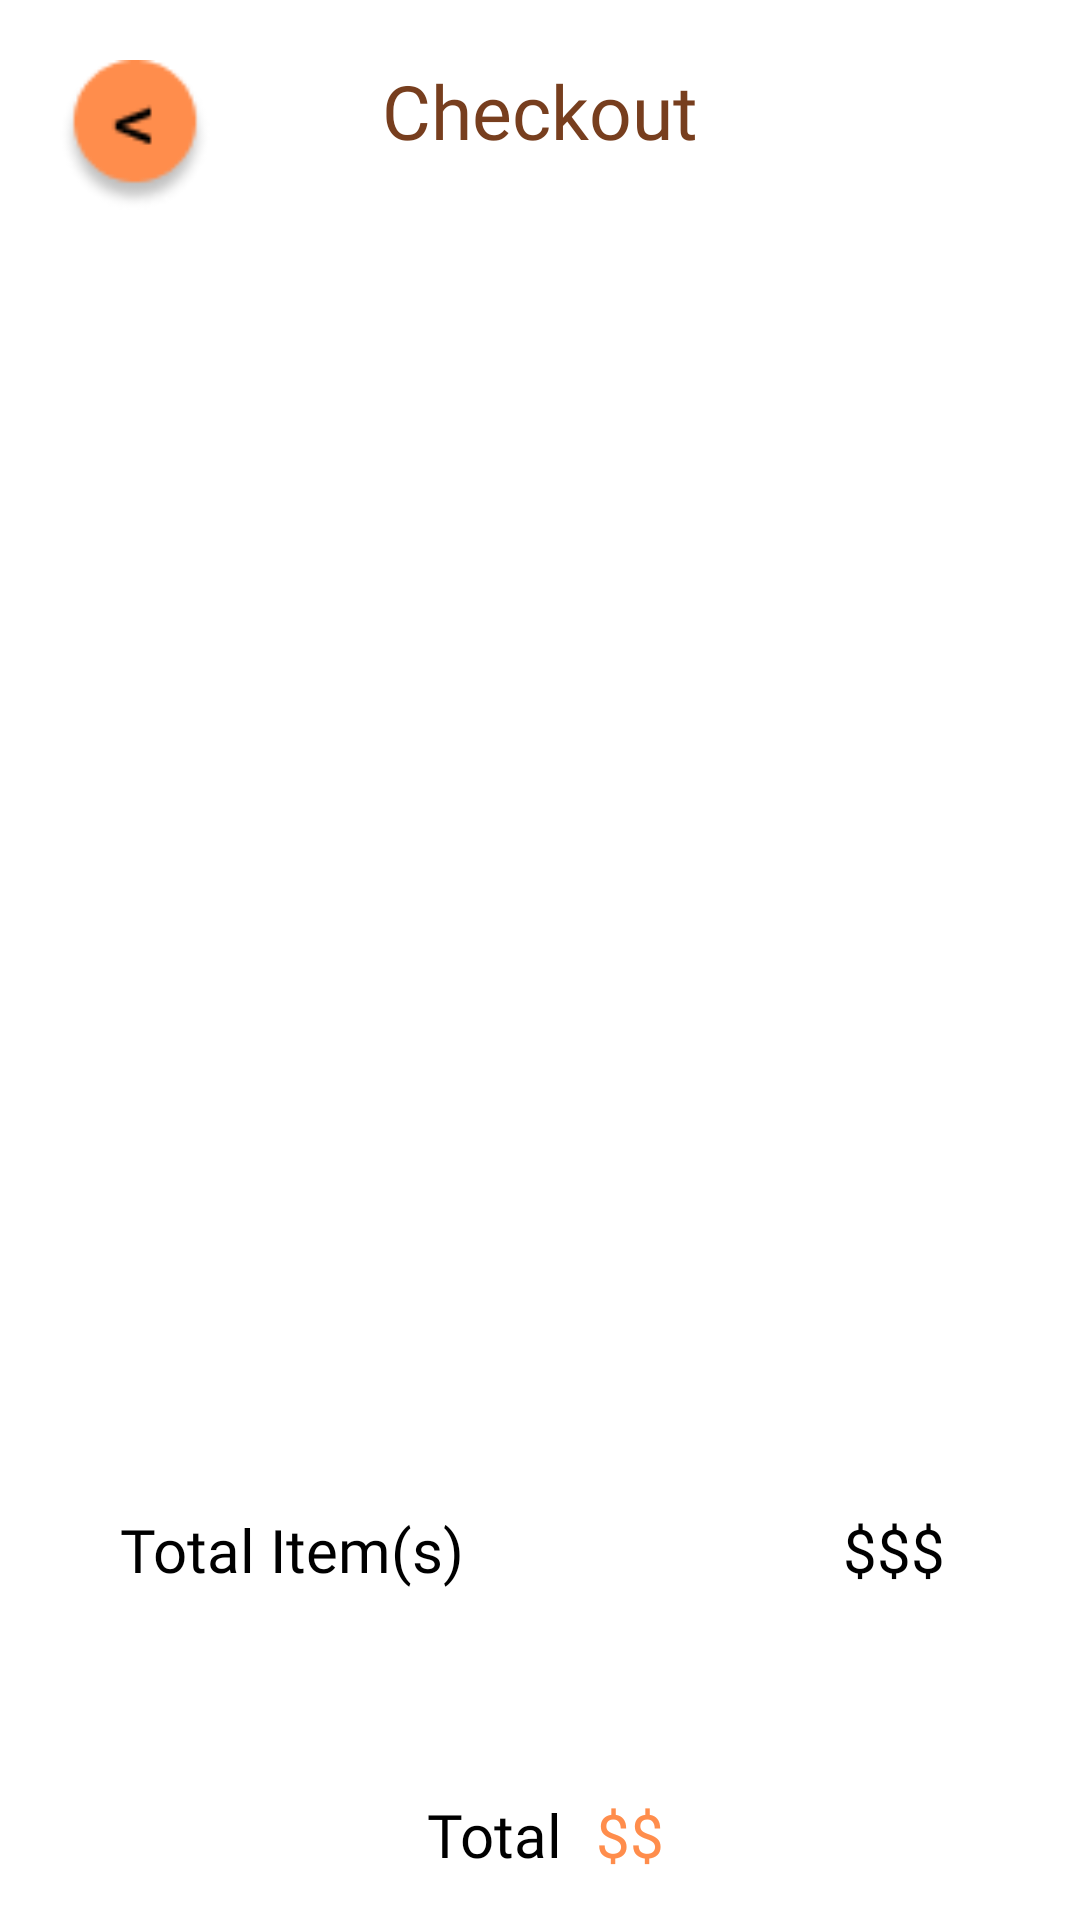

Screen size 1080px x 1920px. Icon name, then its center in pixels as point (x, y):
back: point (135, 129)
